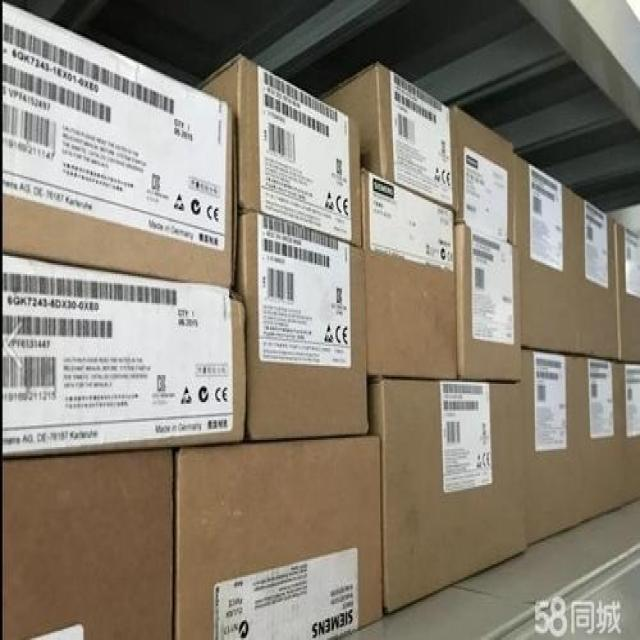box: (2, 3, 235, 289), (0, 254, 245, 458), (173, 435, 385, 638), (369, 376, 527, 613), (1, 446, 176, 637), (197, 55, 363, 248), (235, 208, 368, 439), (320, 61, 460, 211), (361, 169, 459, 379), (516, 152, 580, 356), (522, 347, 588, 542), (458, 226, 521, 380), (454, 108, 516, 243), (575, 196, 621, 359), (584, 354, 625, 521), (615, 222, 639, 364), (624, 359, 638, 509)
